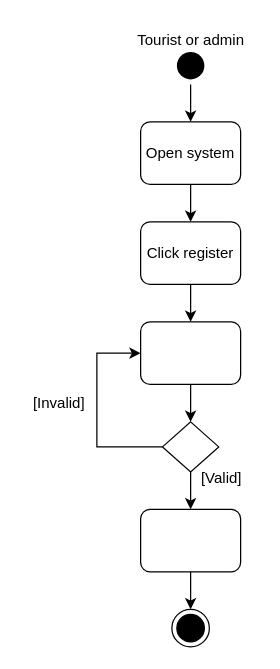
The diagram is 280 pixels wide and 669 high, and some of its shapes have lost their labels. The shapes that lost their labels are listed below. From the top down, each one's centre as x and y in pixels, then its label:
[190,352]: Fill out registration form
[190,540]: Access login page
